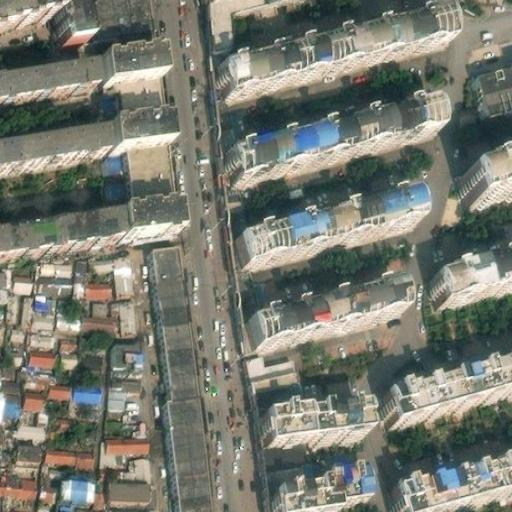building: (209, 13, 446, 99), (218, 97, 431, 180), (233, 201, 422, 264), (245, 288, 400, 344), (387, 361, 512, 423), (385, 461, 512, 512), (158, 394, 208, 512), (208, 0, 268, 70), (431, 256, 512, 305), (263, 404, 367, 439), (79, 0, 142, 57), (244, 349, 301, 411), (265, 436, 316, 504), (154, 314, 196, 393), (145, 240, 187, 318), (130, 141, 178, 206), (471, 64, 512, 114), (108, 112, 166, 147), (462, 165, 512, 204), (226, 175, 253, 245), (122, 203, 180, 235), (97, 55, 157, 84), (121, 79, 163, 117), (272, 488, 336, 512), (238, 260, 262, 321), (216, 94, 239, 150), (334, 472, 367, 507), (112, 340, 145, 370), (1, 453, 39, 479), (111, 294, 136, 328), (117, 452, 149, 476), (32, 272, 71, 290), (105, 431, 148, 447), (109, 476, 149, 493), (113, 260, 132, 292), (3, 387, 21, 420), (55, 306, 82, 327), (122, 406, 144, 431), (82, 311, 112, 329), (83, 276, 111, 295), (28, 324, 55, 343), (18, 416, 45, 435), (46, 442, 76, 458), (21, 368, 51, 384), (28, 343, 56, 360), (21, 290, 35, 322), (111, 370, 142, 384), (15, 439, 40, 456), (105, 406, 122, 431), (74, 254, 93, 276), (71, 473, 88, 496), (12, 268, 32, 287), (36, 492, 55, 512), (109, 384, 126, 406), (35, 306, 55, 324), (75, 381, 99, 396), (126, 384, 142, 406), (88, 254, 113, 268), (38, 476, 57, 494), (25, 384, 44, 402), (60, 327, 76, 347), (124, 345, 145, 360), (35, 290, 54, 306), (51, 378, 71, 393), (55, 256, 73, 272), (76, 446, 94, 462), (38, 256, 55, 272), (91, 295, 107, 312), (8, 288, 18, 315), (60, 347, 77, 362), (100, 447, 117, 462), (1, 503, 29, 512), (21, 360, 52, 368), (11, 322, 24, 341), (86, 474, 96, 497), (62, 472, 72, 495), (94, 486, 106, 505), (5, 374, 20, 388), (71, 276, 83, 293), (117, 447, 127, 463), (88, 504, 104, 512), (5, 264, 12, 282), (37, 406, 47, 418), (11, 341, 24, 350), (0, 316, 5, 338), (3, 491, 12, 503), (11, 350, 21, 360), (0, 373, 6, 388), (0, 436, 4, 452)
